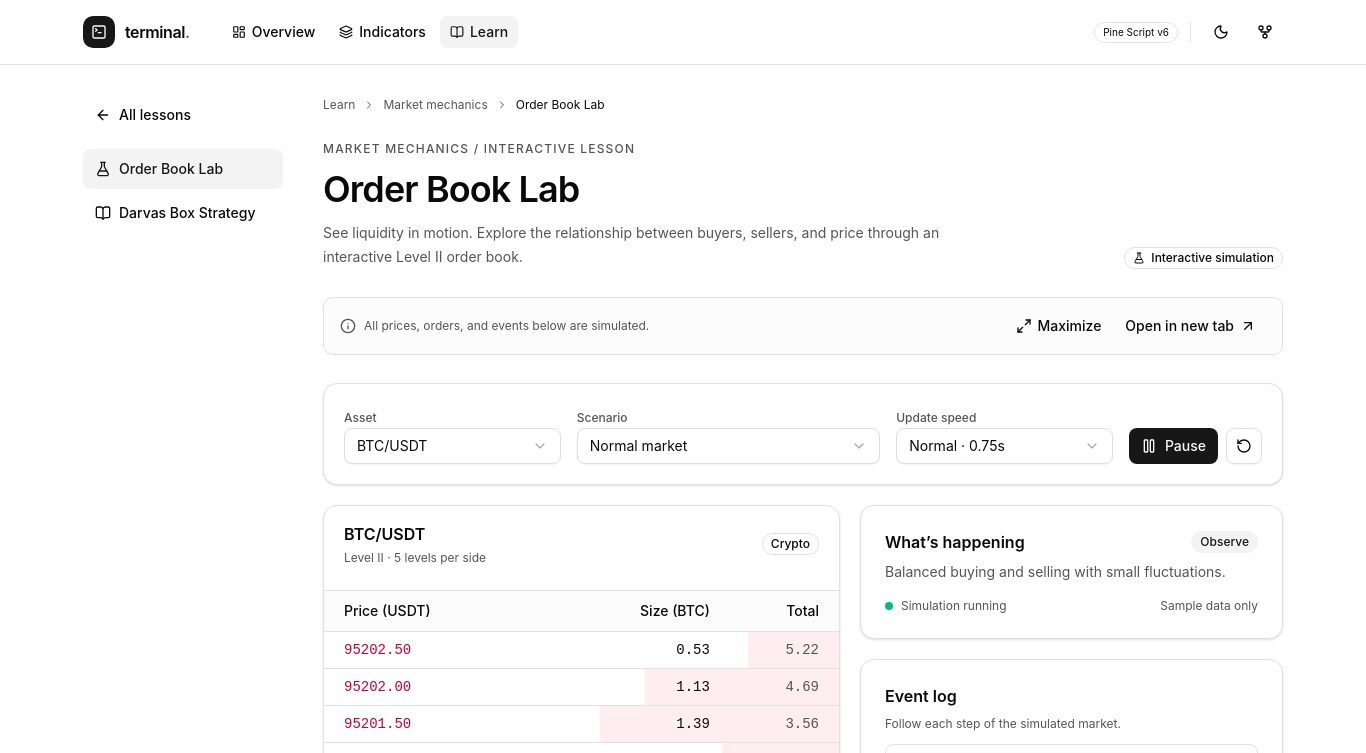
Test: navigates between independent lessons and releases the simulator timer
Expected: the heading "Order Book Lab" is shown, [323,167,579,211]
Click the link "Darvas Box Strategy": (175, 212) [95,204,256,221]
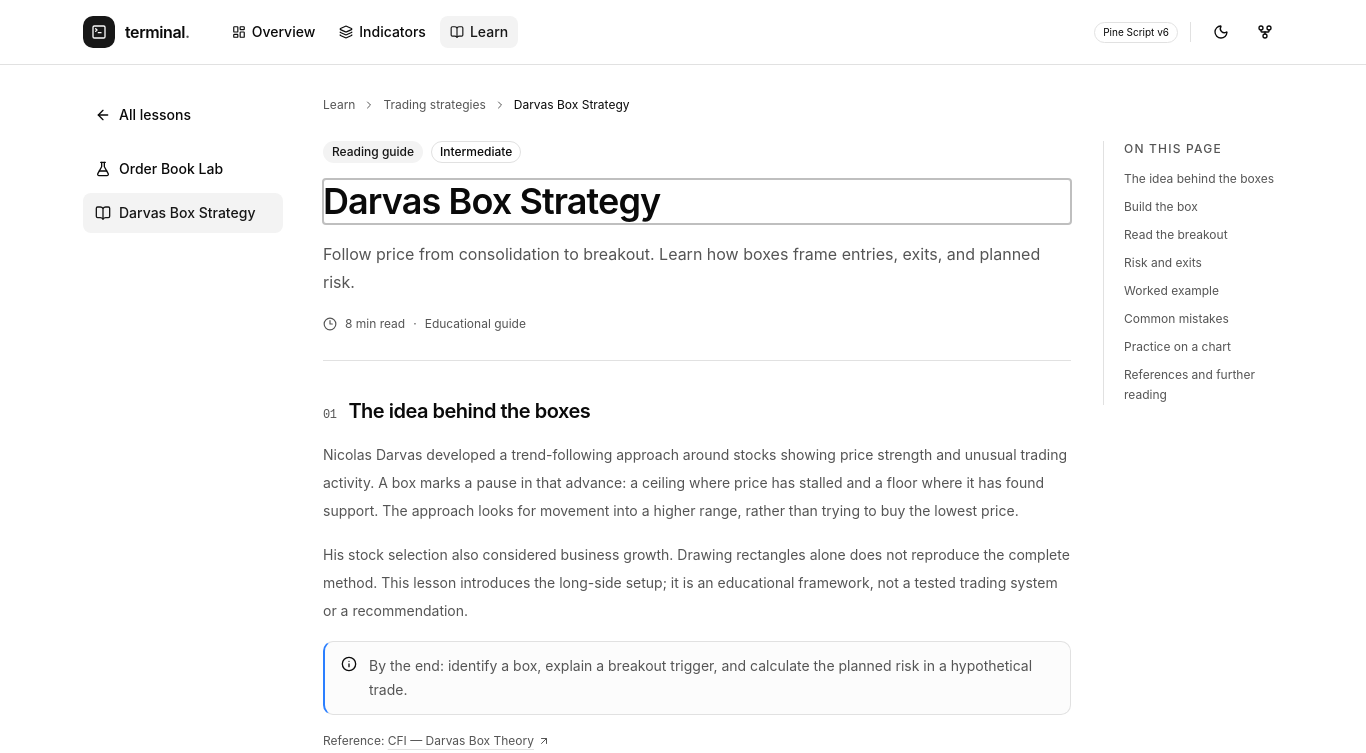
Expected: the heading "Darvas Box Strategy" is shown, [323,179,660,223]
Click the link "All lessons": (143, 114) [95,106,191,123]
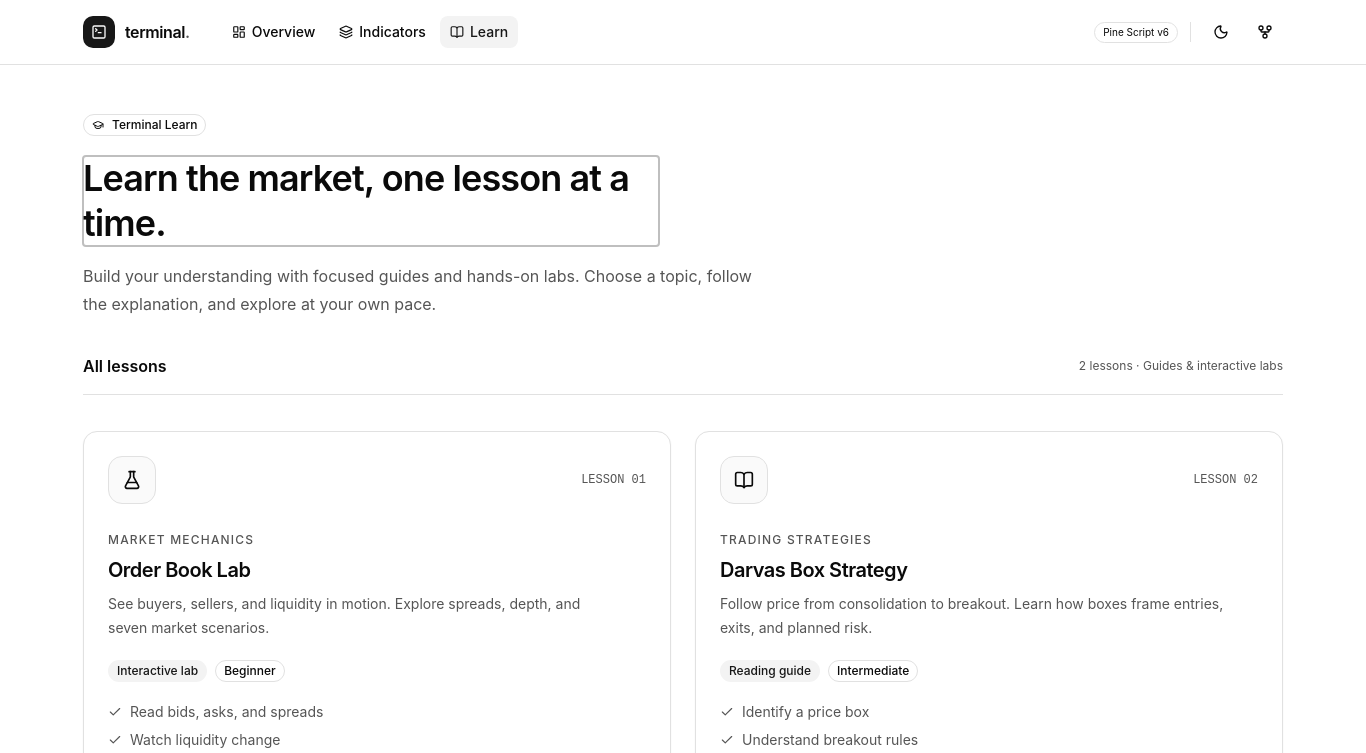
Expected: the heading "Learn the market, one lesson at a time." is shown, [83,156,659,246]
